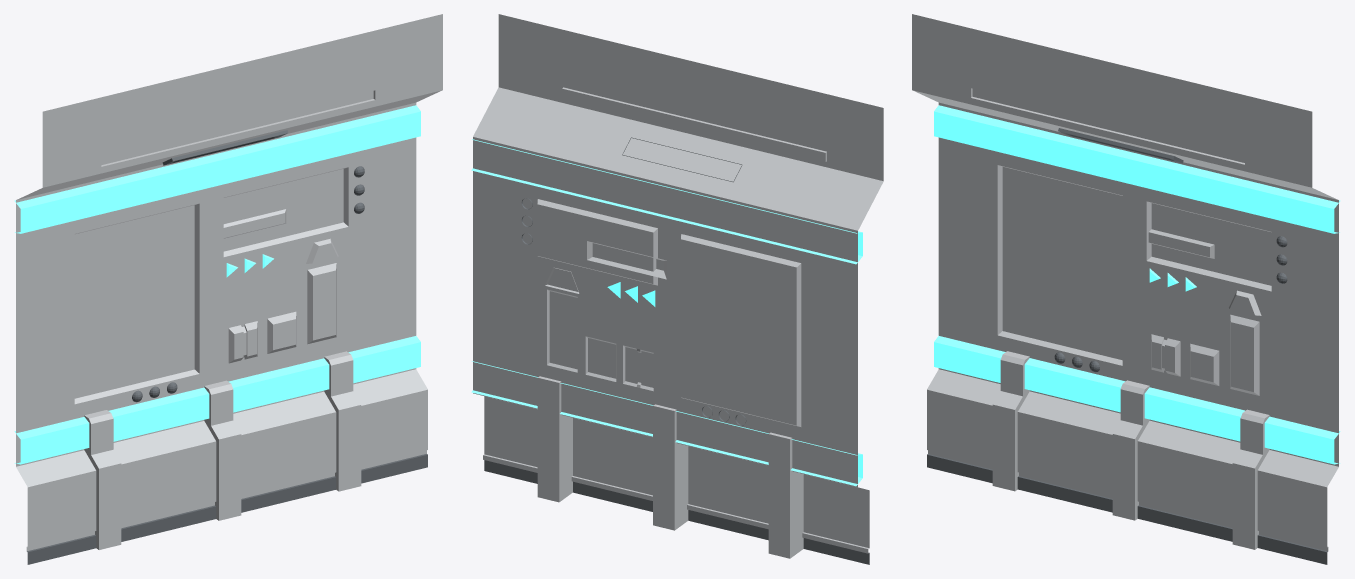
The model's file is wall_1-EX9gB5re.glb.
The picture shows the model from 3 angles, left to right: view 1: azimuth 30°, elevation 25°; view 2: azimuth 150°, elevation 25°; view 3: azimuth 330°, elevation 25°; orthographic projection. The views are drawn at different scales.
Parts seen in each view (by area): view 1: Wall_1; view 2: Wall_1; view 3: Wall_1.
Boxes of the visible parts, box(x1,y1,x2,y2) form: Wall_1: box(14, 14, 442, 564); Wall_1: box(471, 14, 883, 564); Wall_1: box(912, 14, 1340, 564).
Size of the model in its own units: 3.34 by 3.7 by 0.4549.
